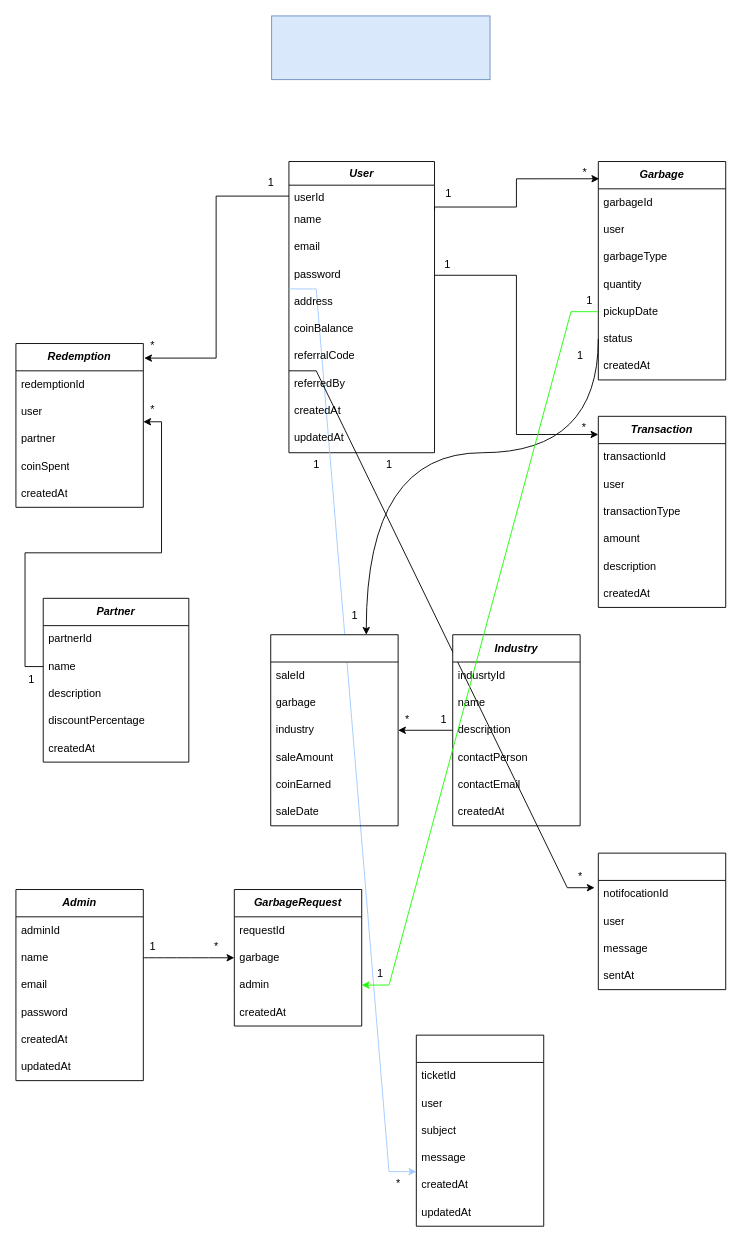
This 742x1242 diagram has some shape labels left out. Each missing label, with the box of its shape:
Class Diagram For Digital Kabaadi: (271, 15, 490, 80)
GarbageSale: (270, 634, 398, 826)
Notification: (597, 852, 726, 990)
SupportTicket: (415, 1034, 544, 1226)
